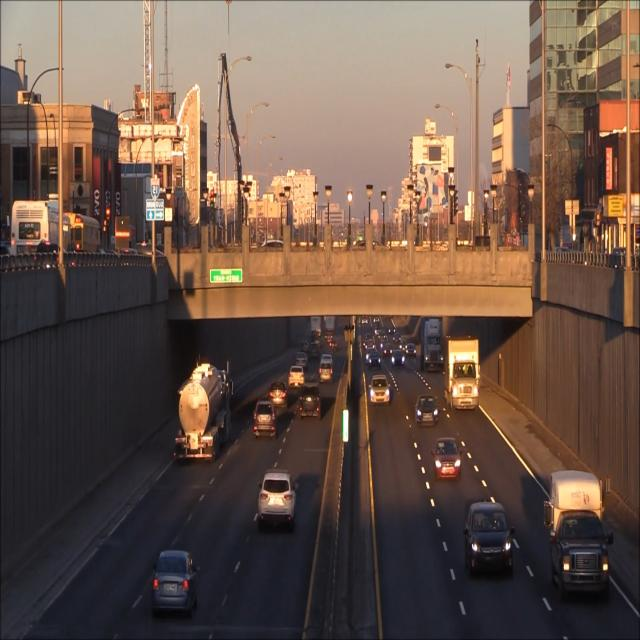Car: (546, 468, 610, 598), (174, 360, 231, 460), (464, 502, 514, 580), (154, 549, 199, 614), (442, 337, 480, 412), (253, 468, 296, 528), (431, 437, 464, 482), (418, 316, 444, 371), (250, 399, 278, 442), (299, 383, 322, 421), (414, 394, 438, 426), (368, 374, 392, 404), (268, 380, 288, 411), (286, 366, 304, 388), (392, 349, 406, 370)
